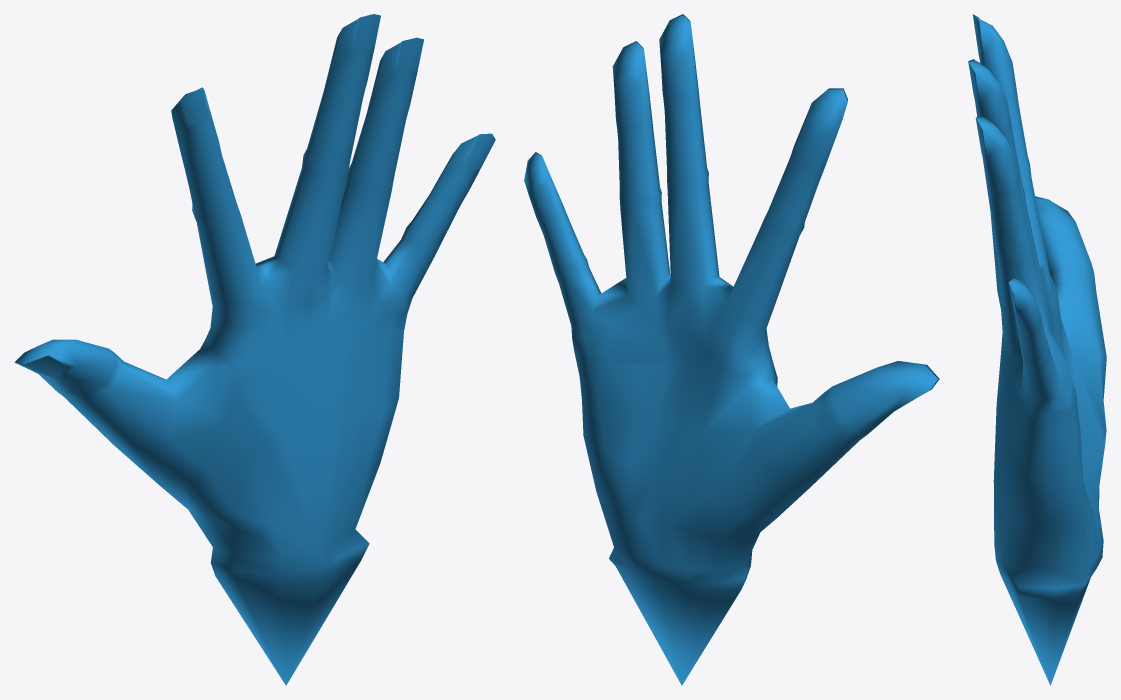
Rendered from Hand_paa_A.obj.
The picture shows the model from 3 angles, left to right: view 1: azimuth 30°, elevation 25°; view 2: azimuth 150°, elevation 25°; view 3: azimuth 270°, elevation 25°; orthographic projection. The views are drawn at different scales.
Parts seen in each view (by area): view 1: Hand_paa_A_MDL; view 2: Hand_paa_A_MDL; view 3: Hand_paa_A_MDL.
Boxes of the visible parts, box(x1,y1,x2,y2) form: Hand_paa_A_MDL: box(14, 14, 495, 685); Hand_paa_A_MDL: box(524, 14, 939, 685); Hand_paa_A_MDL: box(968, 14, 1106, 685).
Size of the model in its own units: 14.33 by 20.55 by 4.01.
1 material, 1 textured.
